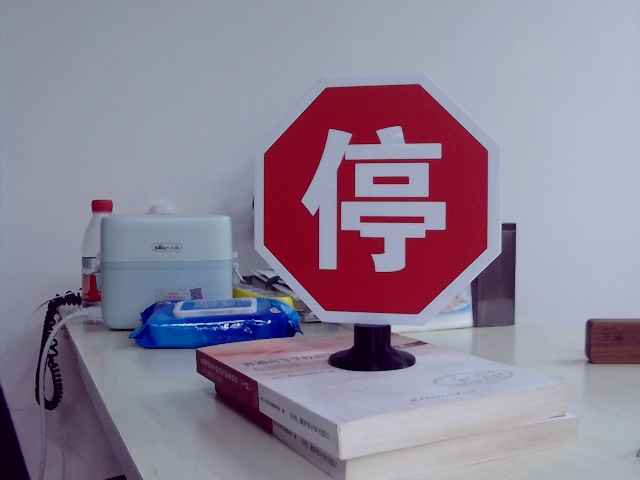stop: (301, 118, 457, 271)
